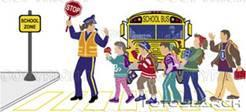bus: (118, 10, 195, 86)
person: (64, 15, 110, 102), (207, 29, 243, 102), (180, 33, 209, 106), (107, 42, 136, 103), (133, 40, 159, 105), (157, 42, 182, 103)
